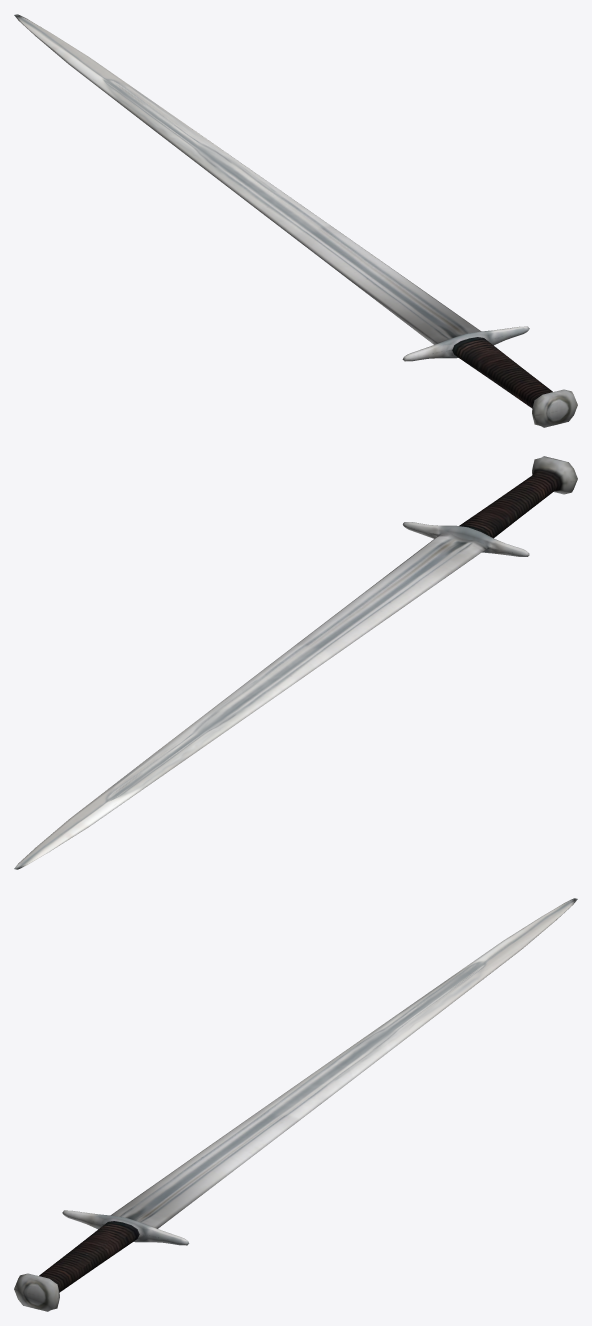
File: Swordfssfs.fbx
3 renders of one model, top to bottom at view 1: azimuth 30°, elevation 25°; view 2: azimuth 150°, elevation 25°; view 3: azimuth 330°, elevation 25°, orthographic.
Visible parts, largest first — view 1: arming_sword_2_Cube.003; view 2: arming_sword_2_Cube.003; view 3: arming_sword_2_Cube.003.
Part boxes in pixels (x1,y1,x2,y2): arming_sword_2_Cube.003: [14, 14, 577, 427]; arming_sword_2_Cube.003: [14, 456, 577, 869]; arming_sword_2_Cube.003: [14, 898, 577, 1311].
Bounding box in the file's own units: 36.92 × 8.88 × 273.
